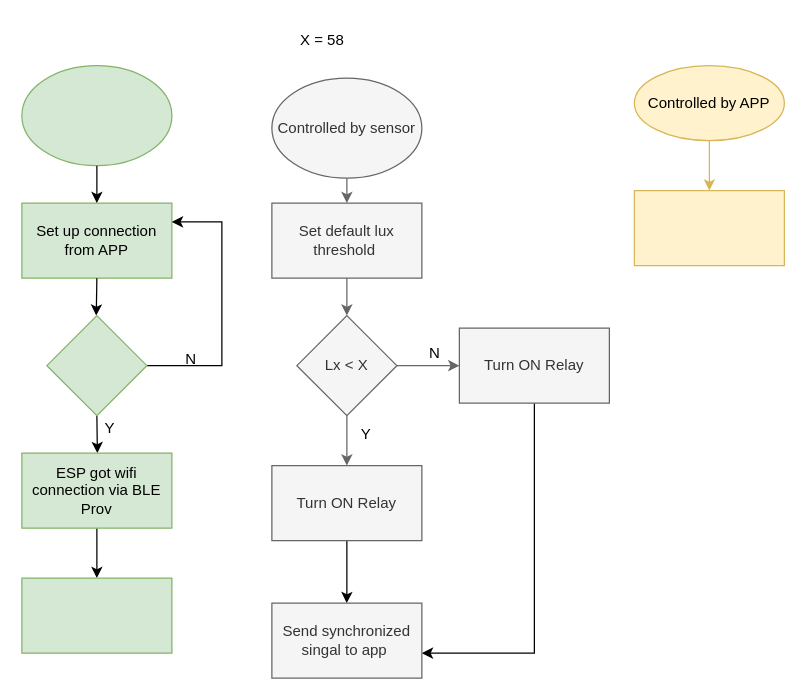
Image size: 806x700. Some labels were removed from this diagram. The shapes that lost their labels are listed below. From the top down, each one's centre as x and y in pixels, then its label:
At point (96, 115): "Start".
At point (708, 227): "Turn off sensor mode on button 5".
At point (96, 365): "Success".
At point (96, 615): "Control in app".
